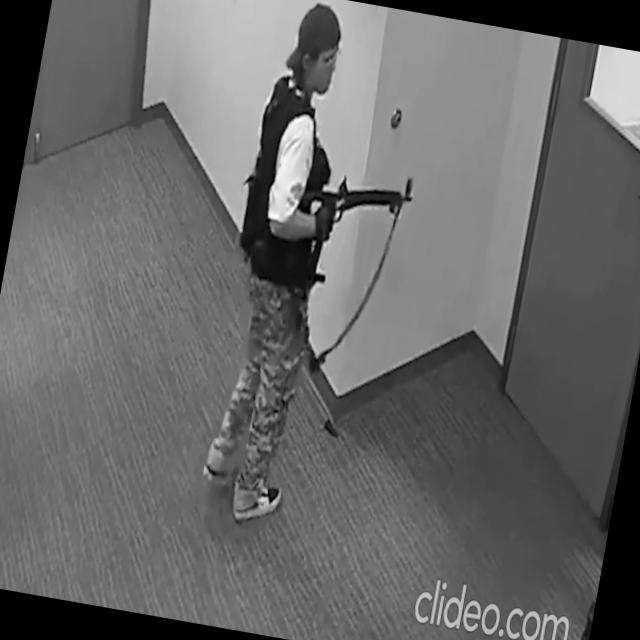gun: (291, 158, 418, 296)
person with a gun: (190, 0, 445, 541)
